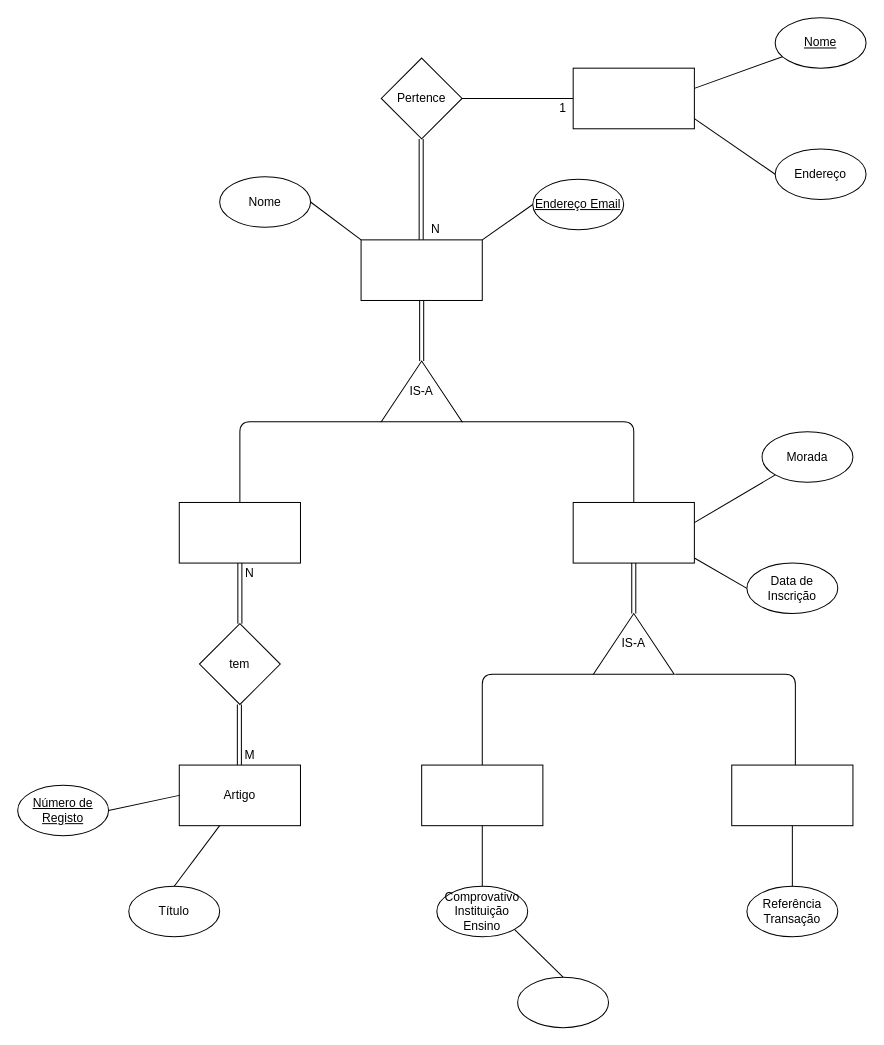
This 884x1045 diagram has some shape labels left out. The shapes that lost their labels are listed below. From the top down, each one's centre as x and y in pixels, then its label:
At [633,98]: "Instituição".
At [421,269]: "Pessoa".
At [239,532]: "Autor".
At [633,532]: "Participante".
At [482,795]: "Estudante".
At [792,795]: "Não Estudante".
At [563,1002]: "Localização Eletrónica".
